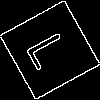L: (25, 25, 79, 72)
